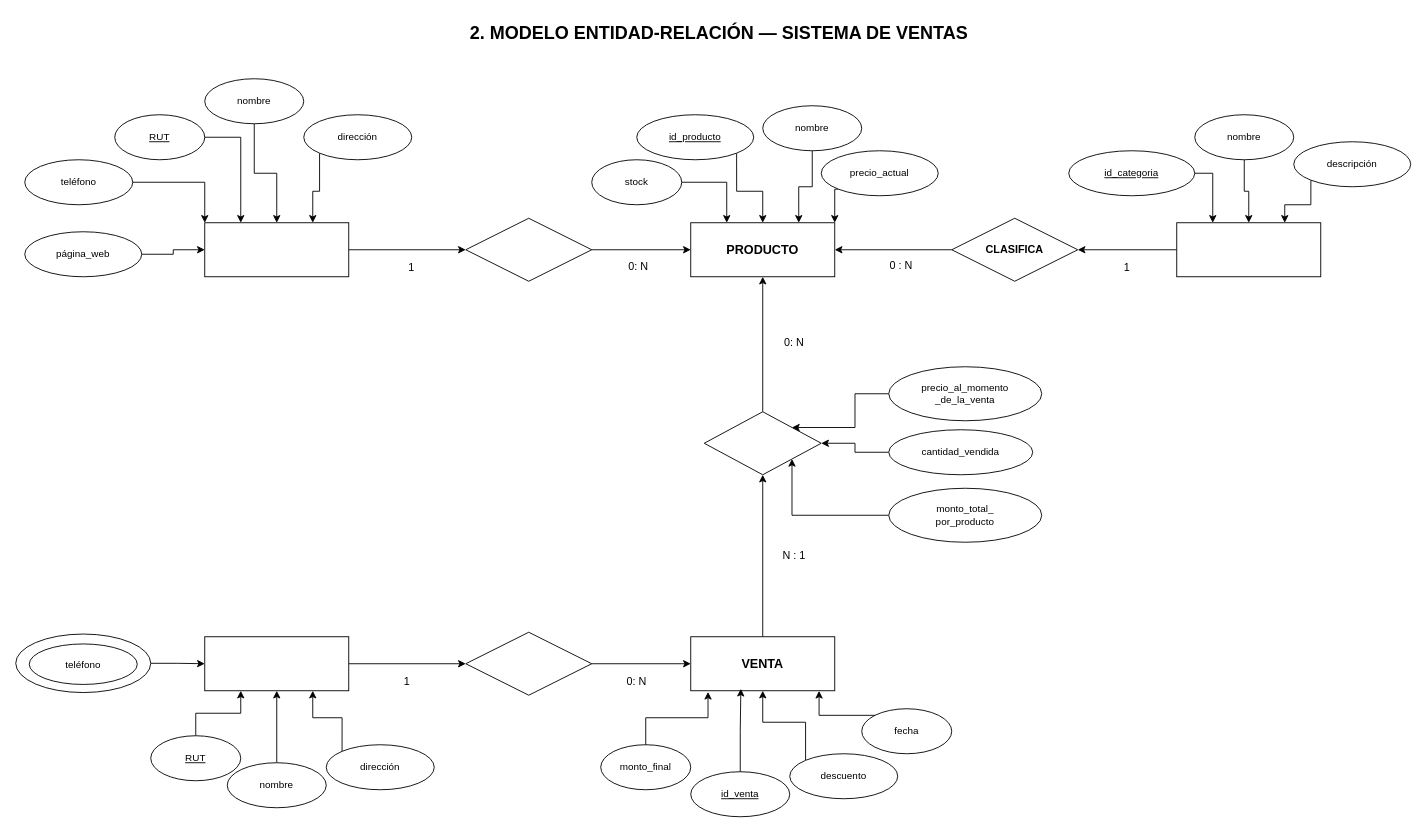
Image size: 1427x833. Some labels were removed from this diagram. Here are the shapes that lost their labels. From the top down, the centre of each, then its label:
At [276,249]: "PROVEEDOR".
At [528,249]: "SUMINISTRA".
At [1248,249]: "CATEGORÍA".
At [762,443]: "INCLUYE".
At [276,663]: "CLIENTE".
At [528,663]: "REALIZA".
